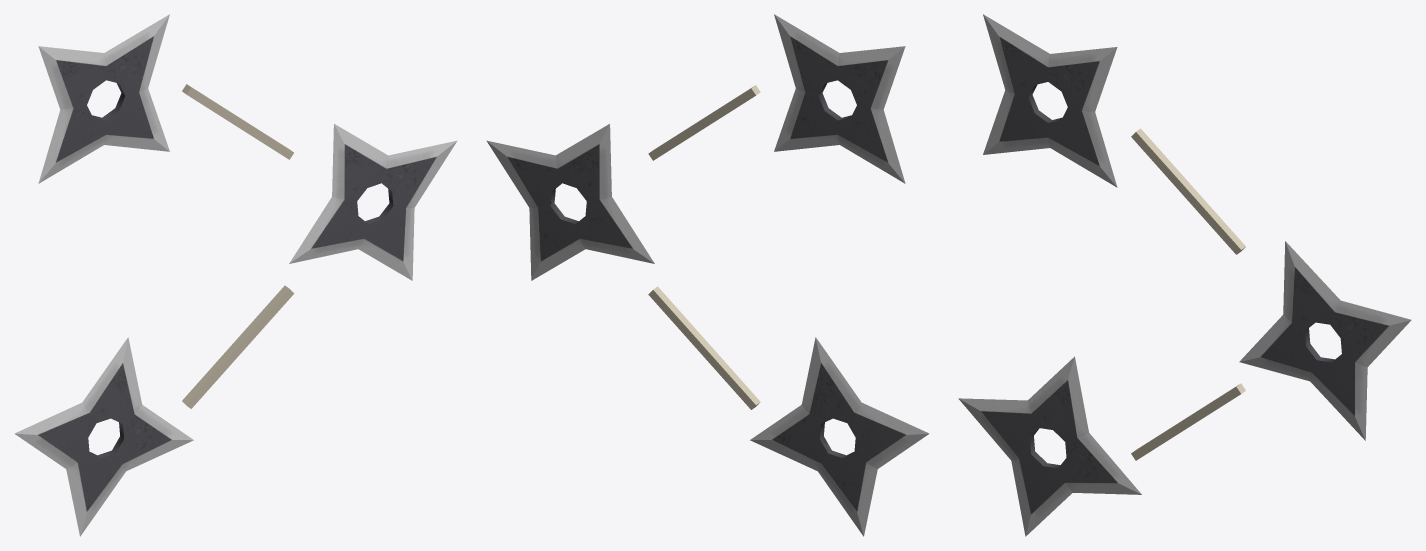
The model's file is SM_Shuriken_Ricochet.fbx.
The picture shows the model from 3 angles, left to right: view 1: azimuth 30°, elevation 25°; view 2: azimuth 150°, elevation 25°; view 3: azimuth 330°, elevation 25°; orthographic projection. The views are drawn at different scales.
Visible parts, largest first — view 1: Shuriken_Ricochet; view 2: Shuriken_Ricochet; view 3: Shuriken_Ricochet.
Boxes of the visible parts, bbox=[...] form: Shuriken_Ricochet: bbox=[14, 14, 457, 536]; Shuriken_Ricochet: bbox=[486, 14, 929, 536]; Shuriken_Ricochet: bbox=[958, 14, 1411, 536].
Size of the model in its own units: 206 by 222 by 4.
